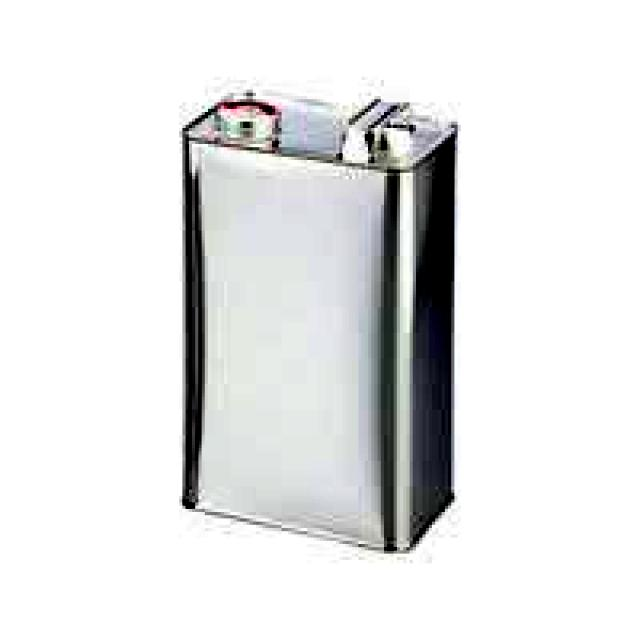Metal: (178, 87, 458, 554)
